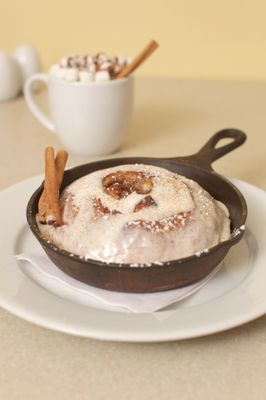pizza: (23, 63, 136, 157)
